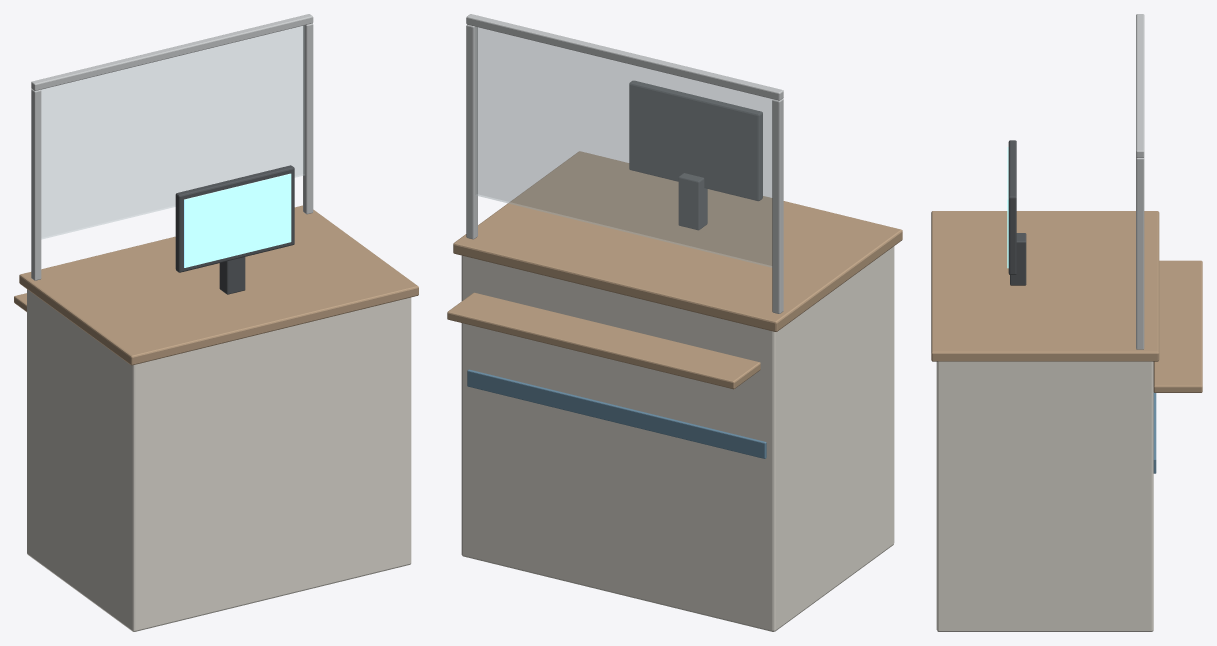
Rendered from cashier_window.glb.
3 renders of one model, left to right at view 1: azimuth 30°, elevation 25°; view 2: azimuth 150°, elevation 25°; view 3: azimuth 270°, elevation 25°, orthographic. The views are drawn at different scales.
Visible parts, largest first — view 1: cashier_window; view 2: cashier_window; view 3: cashier_window.
Part boxes in pixels (x1,y1,x2,y2): cashier_window: (14, 14, 418, 631); cashier_window: (447, 14, 902, 631); cashier_window: (931, 14, 1202, 631).
Bounding box in the file's own units: 1.24 × 1.96 × 1.
